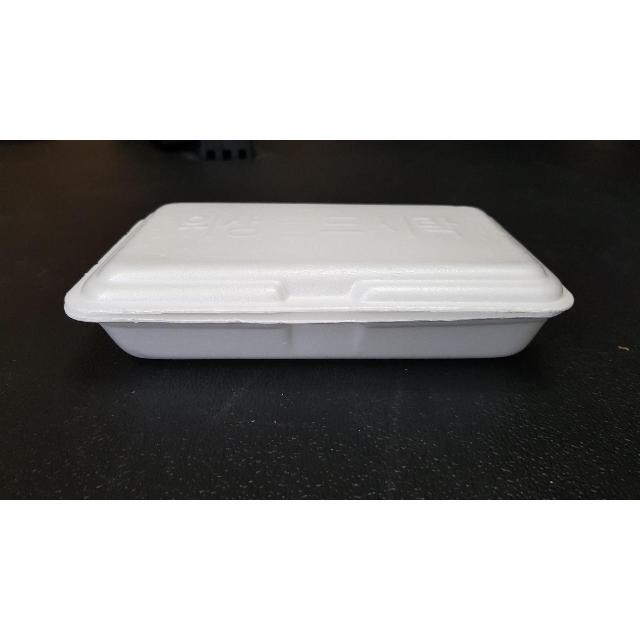Plastico descartable: (62, 203, 575, 363)
